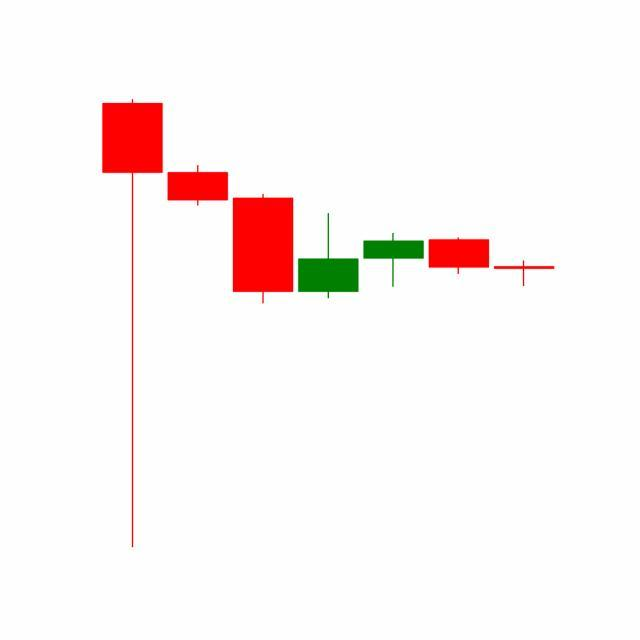Hikkake Pattern: (229, 194, 555, 306)
